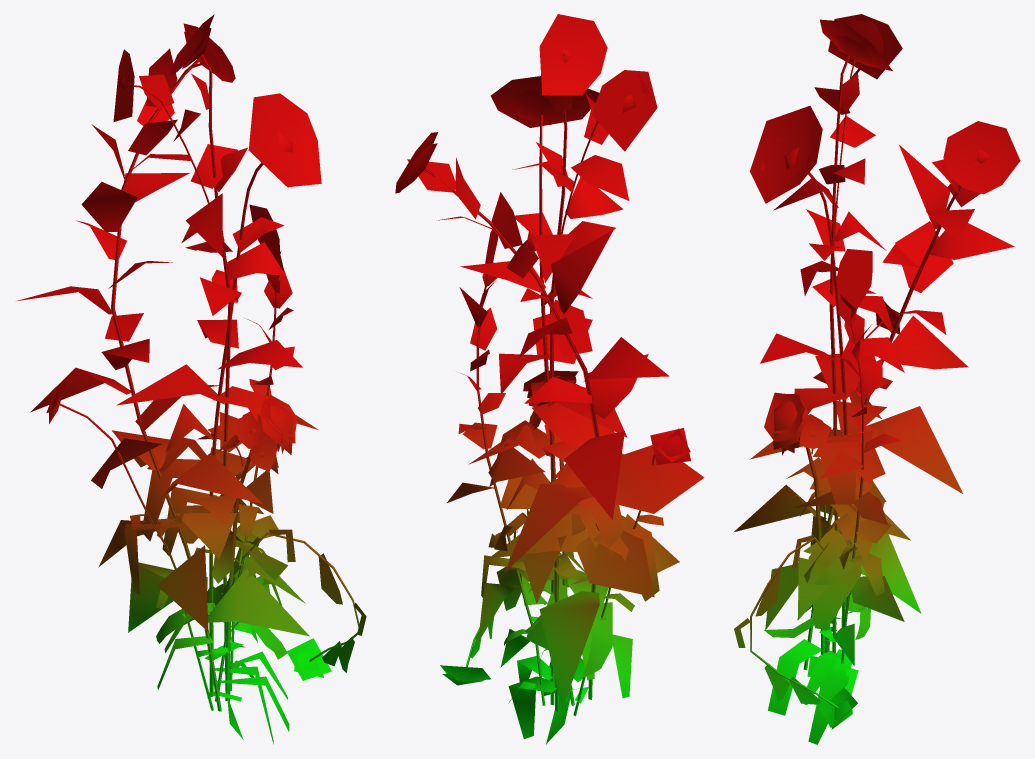
Rendered from Crownbeard_LOD2_Var5_tefoajkr.fbx.
3 renders of one model, left to right at view 1: azimuth 30°, elevation 25°; view 2: azimuth 150°, elevation 25°; view 3: azimuth 270°, elevation 25°, orthographic. The views are drawn at different scales.
Parts seen in each view (by area): view 1: _5763_Var5_LOD2; view 2: _5763_Var5_LOD2; view 3: _5763_Var5_LOD2.
Part boxes in pixels (x1,y1,x2,y2): _5763_Var5_LOD2: (17,14,366,744); _5763_Var5_LOD2: (395,14,704,744); _5763_Var5_LOD2: (734,14,1020,744).
Bounding box in the file's own units: 34.88 × 91.35 × 33.85.
